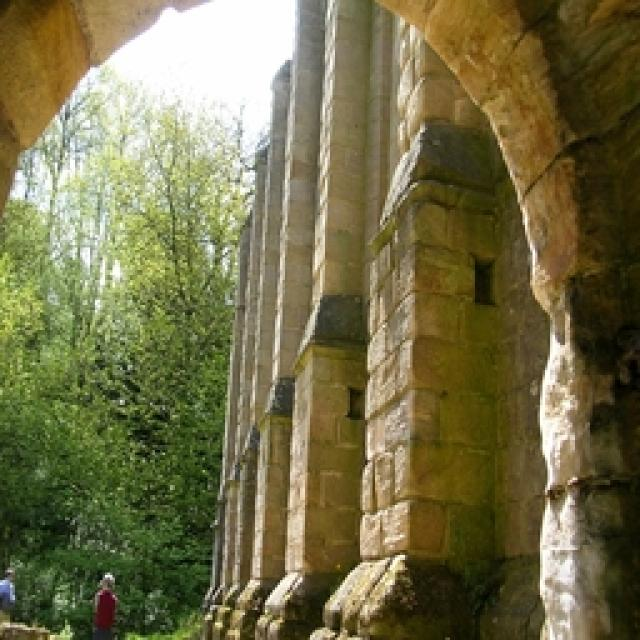Abbey: (57, 1, 559, 640)
